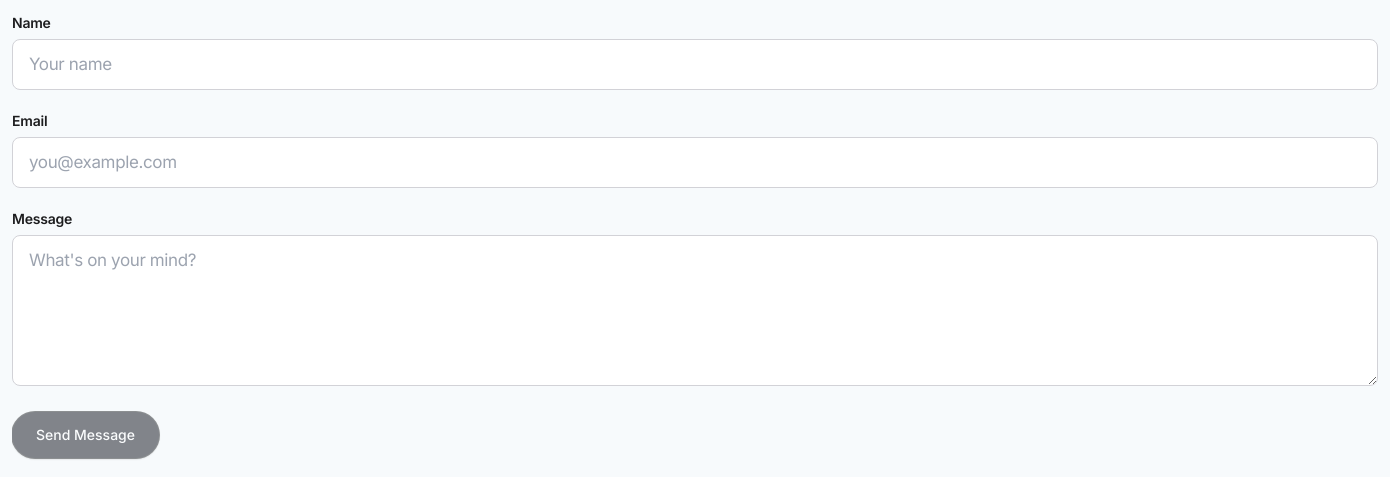
Test: ContactForm › submit button is enabled when all fields are filled
The image size is (1390, 477).
Type "Allen" into the field labelled "Name". click: (695, 64)
box: top-left (12, 39), bottom-right (1378, 90)
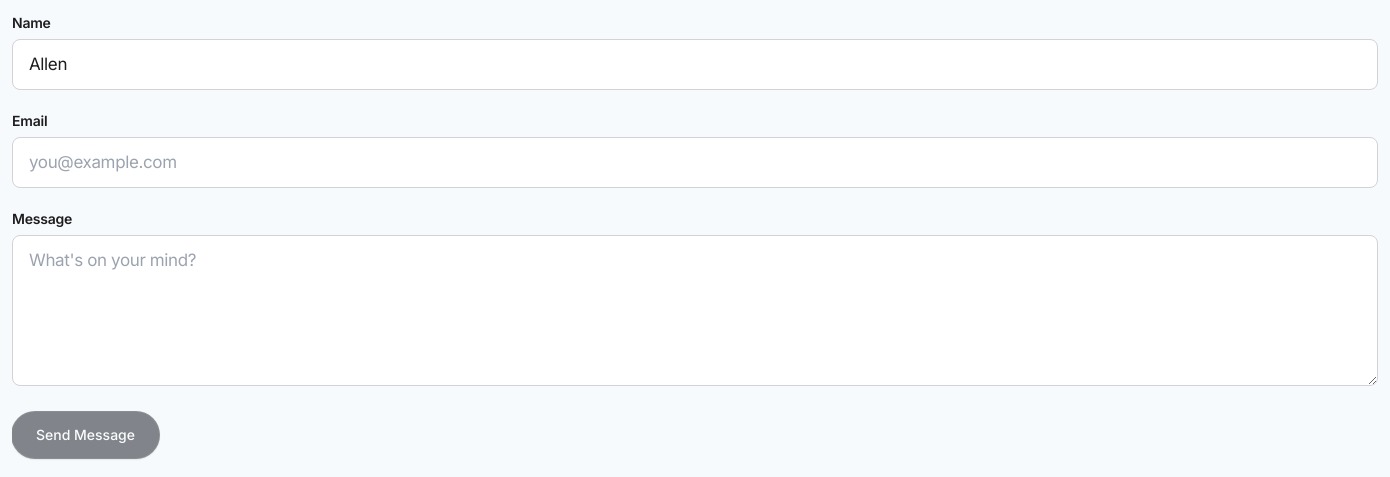
Type "allen@test.com" into the field labelled "Email". click: (695, 162)
box: top-left (12, 137), bottom-right (1378, 188)
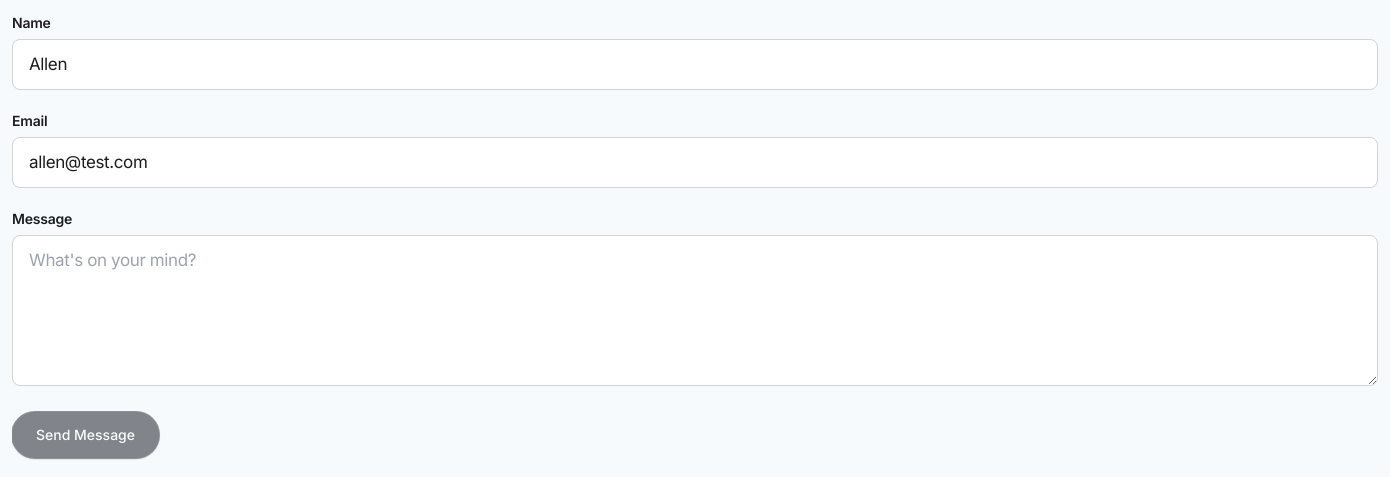
Type "Hello" into the text box labelled "Message". click: (695, 310)
box: top-left (12, 235), bottom-right (1378, 386)
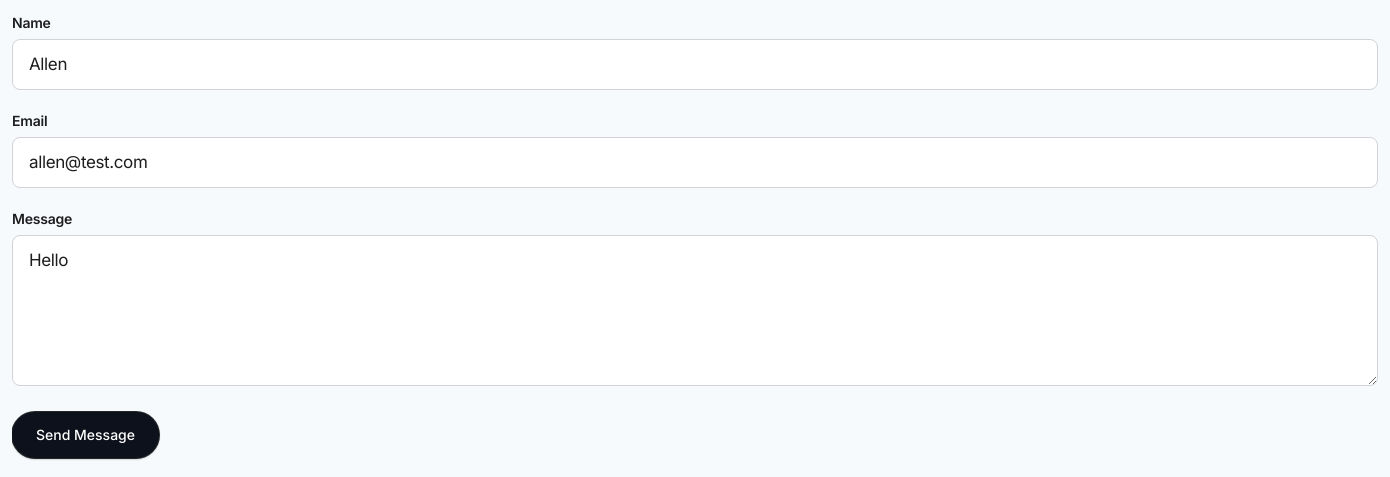
Check: the button "Send Message" is enabled, box top-left (12, 412), bottom-right (159, 458)
